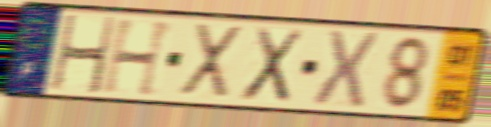8: (379, 35, 432, 113)
H: (98, 17, 179, 99), (49, 13, 119, 97)
X: (309, 27, 382, 110), (175, 21, 245, 103), (237, 25, 307, 105)
